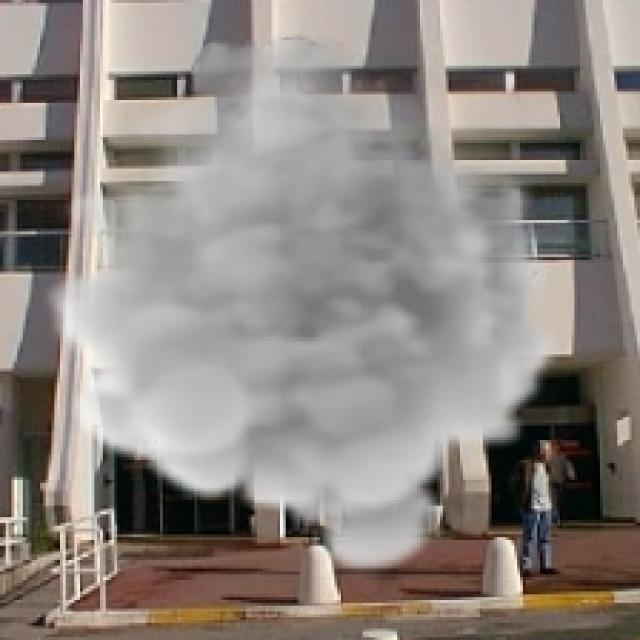smoke: (43, 31, 560, 580)
